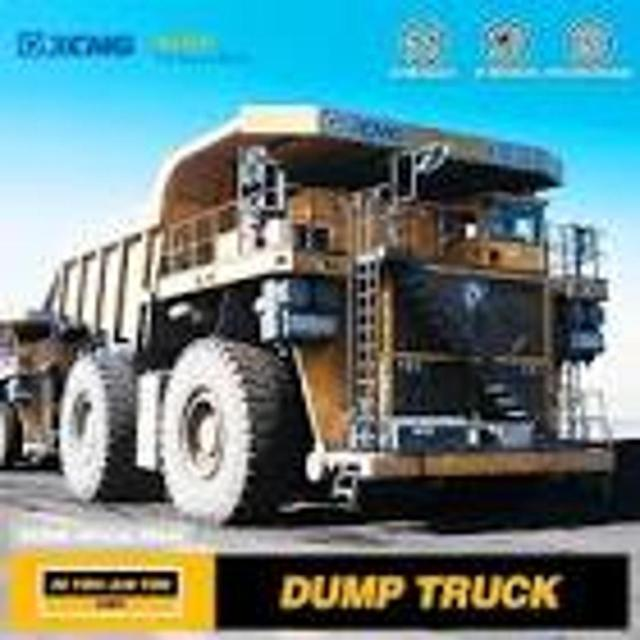dump_truck: (36, 86, 623, 523)
